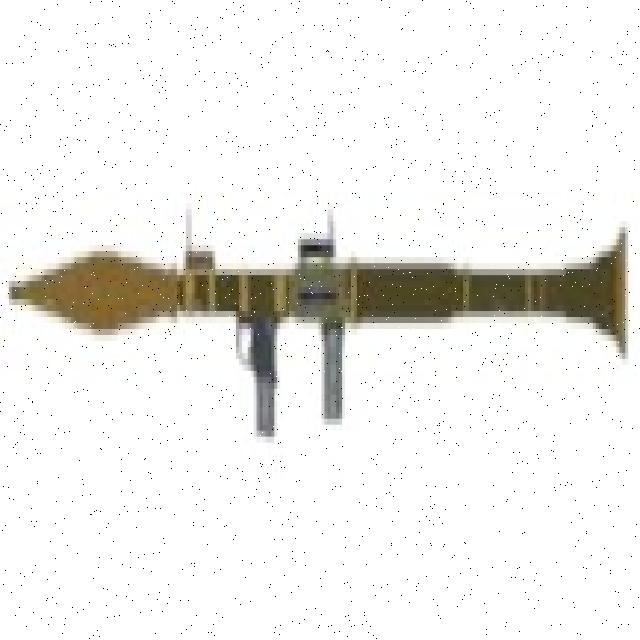bazooka: (3, 202, 634, 451)
